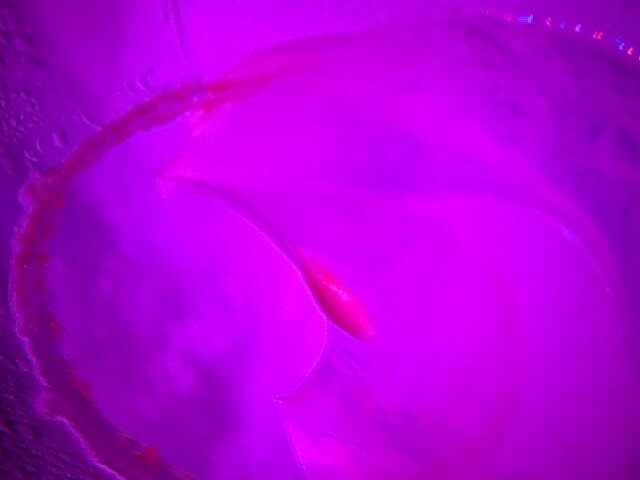seed: (281, 239, 402, 367)
